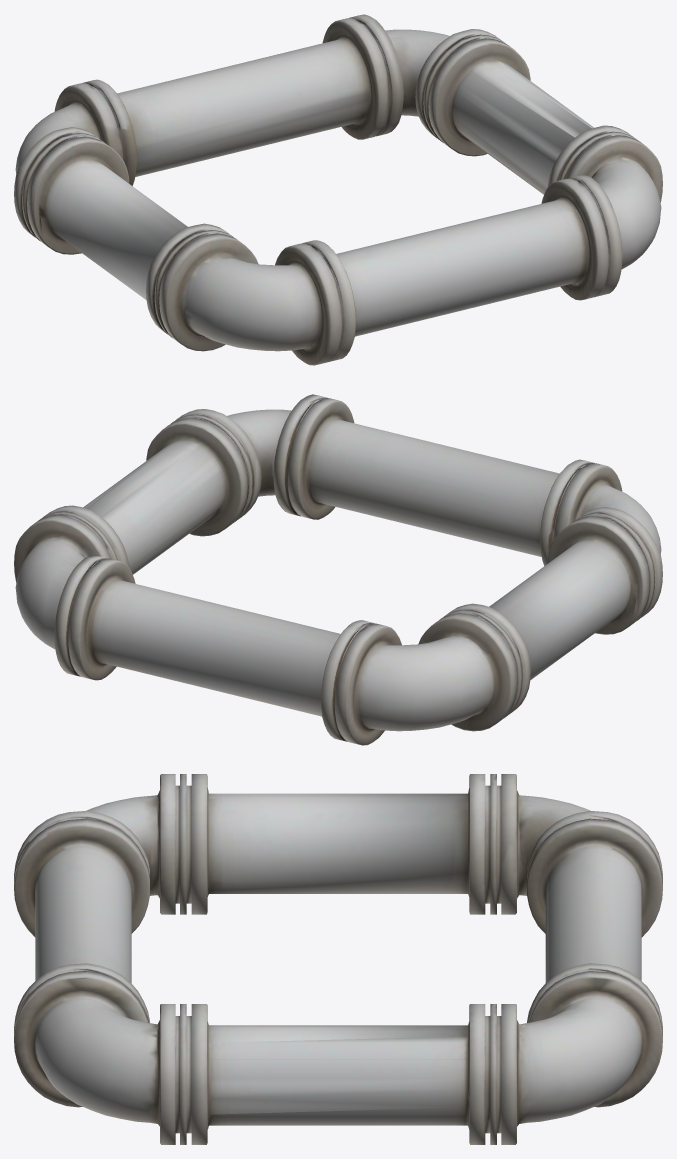
The model's file is l-shaped_industrial_pipe_3b570c7e_v1.glb.
3 views of the same model, one above another, from view 1: azimuth 30°, elevation 25°; view 2: azimuth 150°, elevation 25°; view 3: azimuth 270°, elevation 25° (orthographic). The views are drawn at different scales.
Visible parts, largest first — view 1: material; view 2: material; view 3: material.
Part boxes in pixels (x1=…): material: x1=14, y1=14, x2=662, y2=365; material: x1=14, y1=394, x2=662, y2=745; material: x1=14, y1=774, x2=662, y2=1144.
Bounding box in the file's own units: 1.9 × 0.4061 × 1.83.
1 material, 1 textured.
